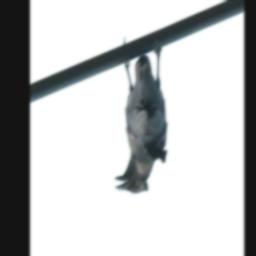Crow: (115, 33, 168, 200)
